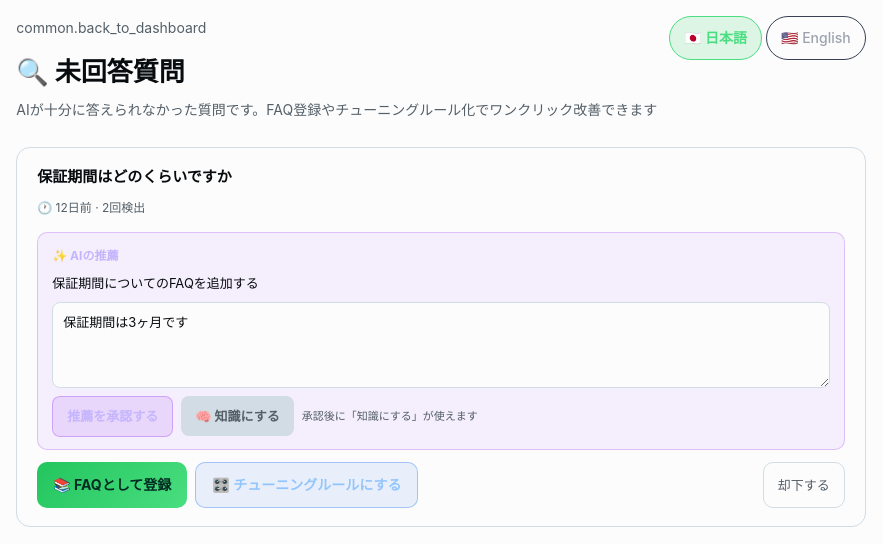
Test case: KnowledgeGapsPage — 承認と知識化 › 「推薦を承認する」ボタンはPATCH {action:'approve'} を送り、成功後に承認済み表示へ更新される
The width and height of the screenshot is (883, 544).
Click the button "推薦を承認する". click: x=113, y=416
box: [52, 396, 173, 437]
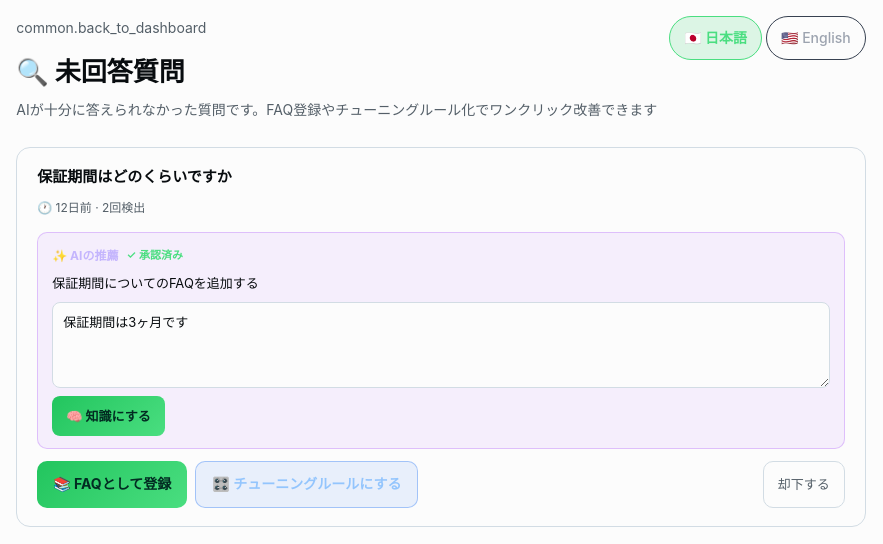
Now the text "✓ 承認済み" is shown, box [126, 246, 183, 265]
Now the button "推薦を承認する" is gone
